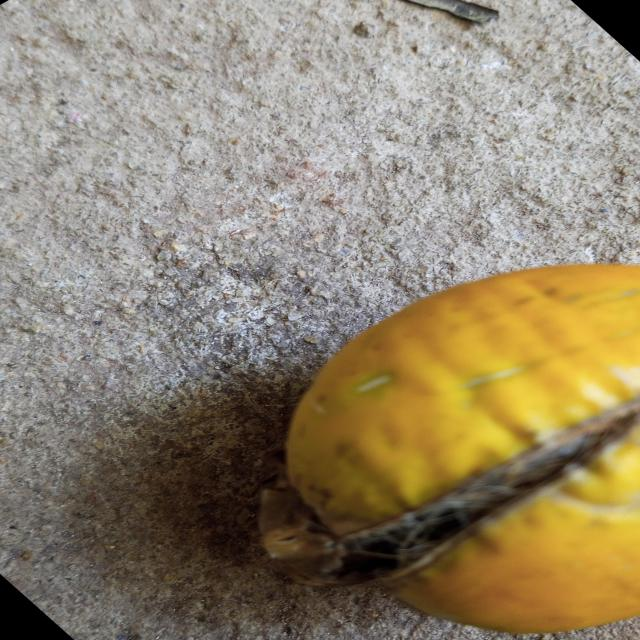damaged: (284, 264, 640, 636)
